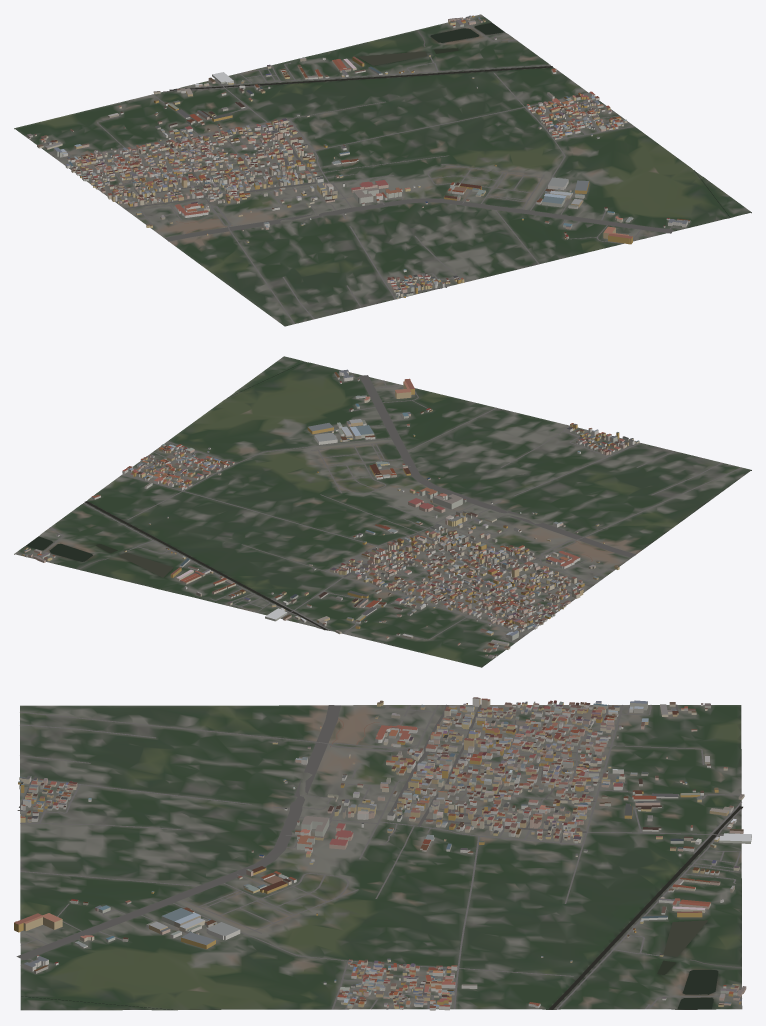
3 renders of one model, top to bottom at view 1: azimuth 30°, elevation 25°; view 2: azimuth 150°, elevation 25°; view 3: azimuth 270°, elevation 25°, orthographic. The views are drawn at different scales.
Visible parts, largest first — view 1: ground, buildings, roads, water; view 2: ground, buildings, roads, water; view 3: ground, buildings, roads, water.
Part boxes in pixels (left/top/right/bottom): ground: left=14, top=14, right=751, bottom=326; buildings: left=26, top=15, right=690, bottom=299; roads: left=42, top=18, right=682, bottom=323; water: left=169, top=22, right=730, bottom=217; ground: left=14, top=356, right=751, bottom=667; buildings: left=22, top=369, right=639, bottom=658; roads: left=31, top=373, right=741, bottom=649; water: left=26, top=362, right=326, bottom=630; ground: left=20, top=705, right=742, bottom=1010; buildings: left=14, top=697, right=751, bottom=1010; roads: left=16, top=704, right=741, bottom=1009; water: left=21, top=806, right=742, bottom=1009.
Bounding box in the file's own units: 1411 × 26.93 × 1434.
